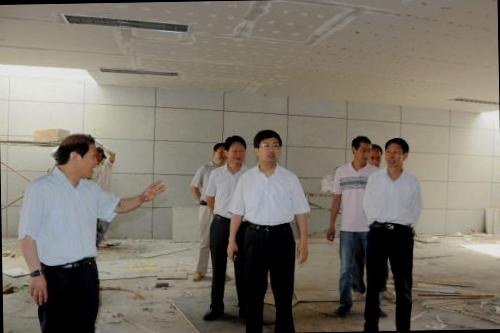no_helmet: (50, 132, 102, 182), (250, 126, 286, 170), (382, 134, 413, 173), (223, 131, 250, 169), (347, 133, 373, 168), (209, 142, 226, 166), (367, 145, 382, 170)
